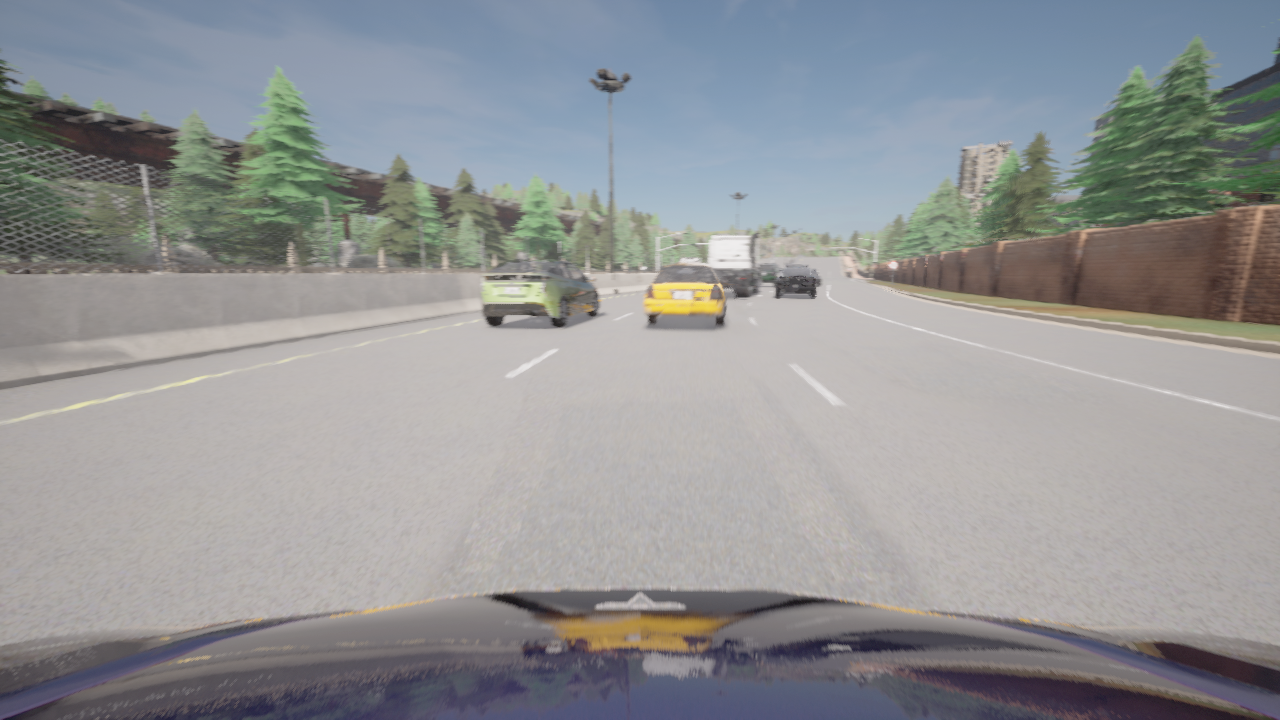cyclist: (0, 588, 1279, 719), (479, 260, 599, 327), (644, 258, 726, 325), (709, 232, 765, 298), (775, 265, 816, 297), (759, 264, 780, 286), (812, 272, 820, 285)
